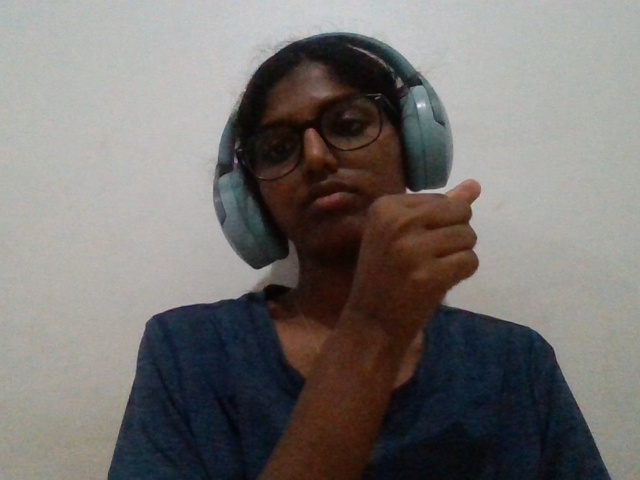G: (336, 167, 508, 387)
